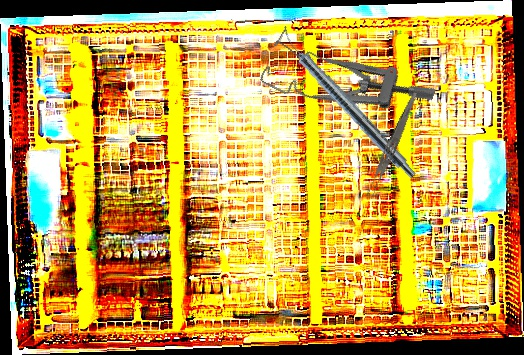Dressing Forceps: (363, 89, 420, 201)
Handpiece: (273, 24, 422, 182)
Speculum: (256, 15, 438, 154)
